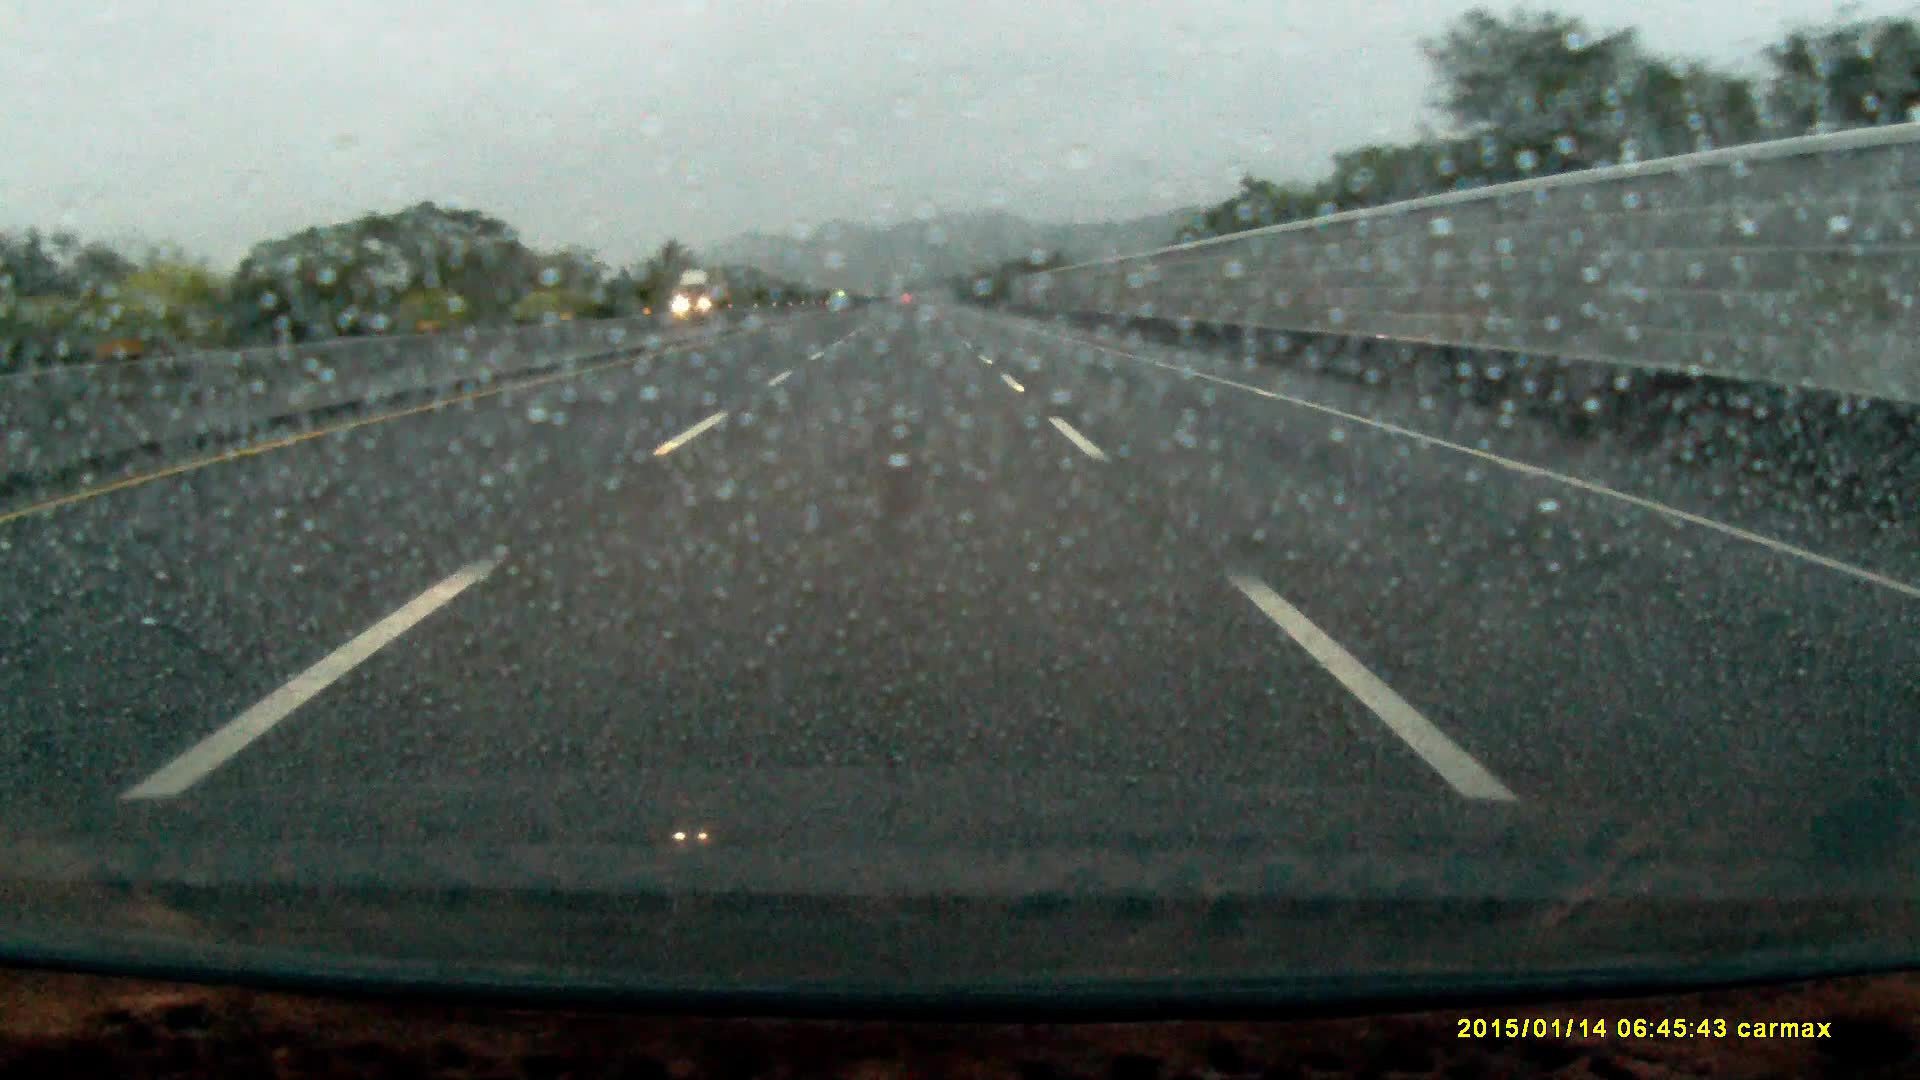vehicle: (673, 272, 731, 318)
